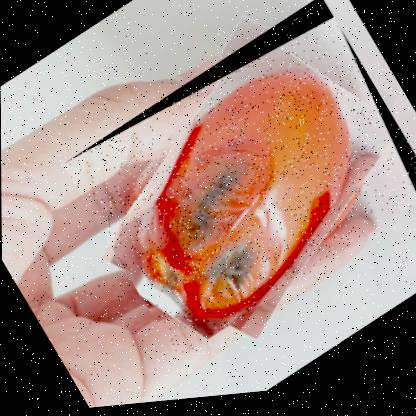tomato_rotten: (60, 0, 415, 373)
